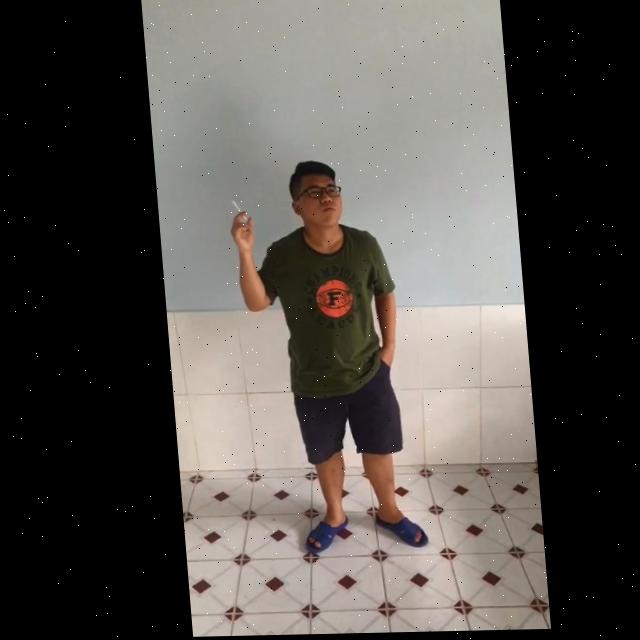cigarette: (228, 201, 244, 223)
